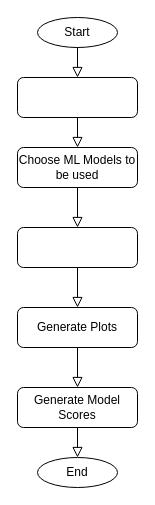
Image size: 155x505. Some labels were removed from this diagram. The shapes that lost their labels are listed below. From the top down, each one's centre as x and y in pixels, then its label:
point (77, 97): Choose Stock Name (Dataset)
point (77, 247): Predict Stock Prices
